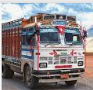truck: (1, 6, 87, 88)
